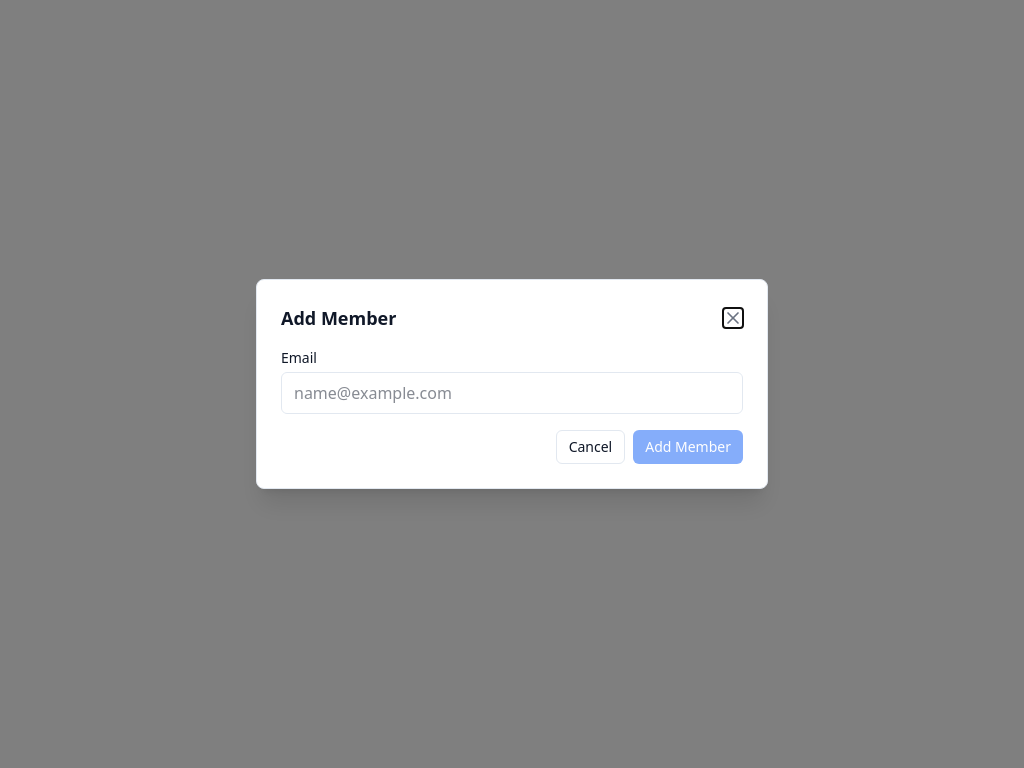
AddMemberModal › branch 3 — exists, addable → details + role select + Add Member primary
The width and height of the screenshot is (1024, 768).
Type "ada@example.com" into the field named "Member email".
click(512, 393); type("ada@example.com")  # box 281,372 -> 743,414
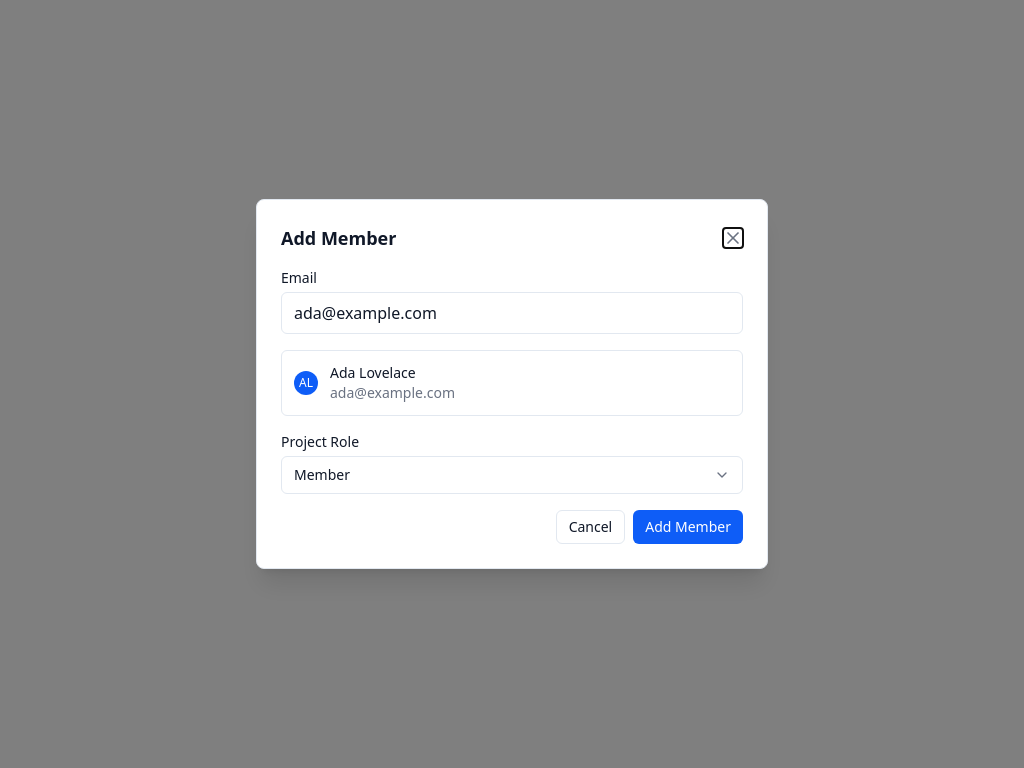
Expected: the text "Ada Lovelace" is shown, 330,363 -> 416,382
Expected: the button "Add Member" is enabled, 633,510 -> 743,544
